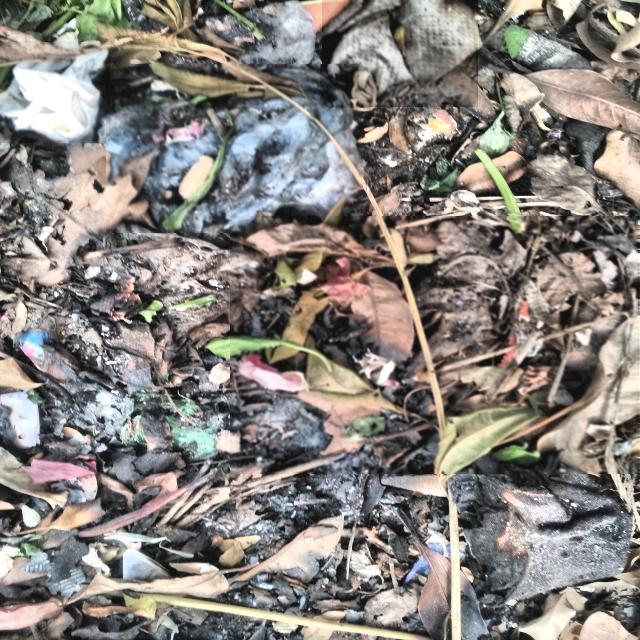anorganik: (106, 65, 361, 233)
organik: (230, 216, 638, 474), (322, 0, 478, 107), (0, 42, 111, 143)
